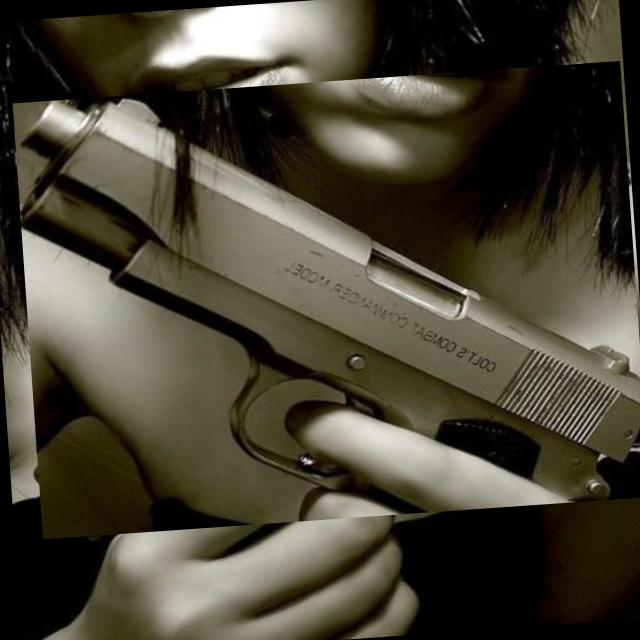Gun: (21, 101, 640, 501)
